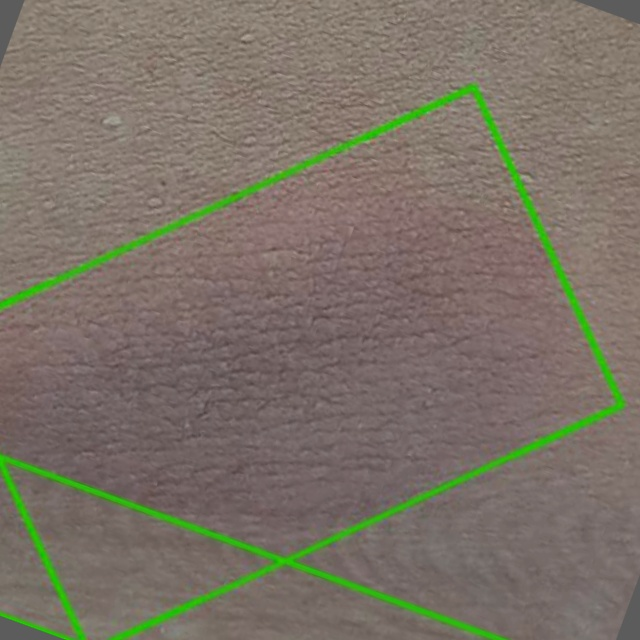Tinea Corporis: (0, 87, 621, 639)
